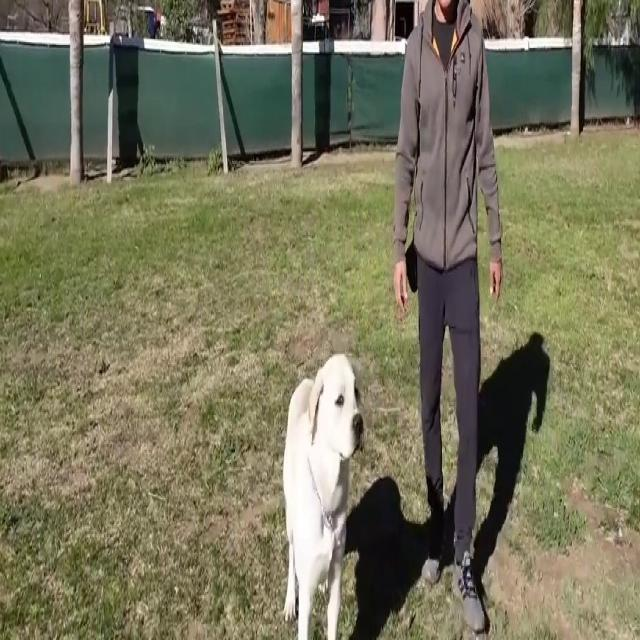Unleashed_Dog: (283, 291, 447, 640)
